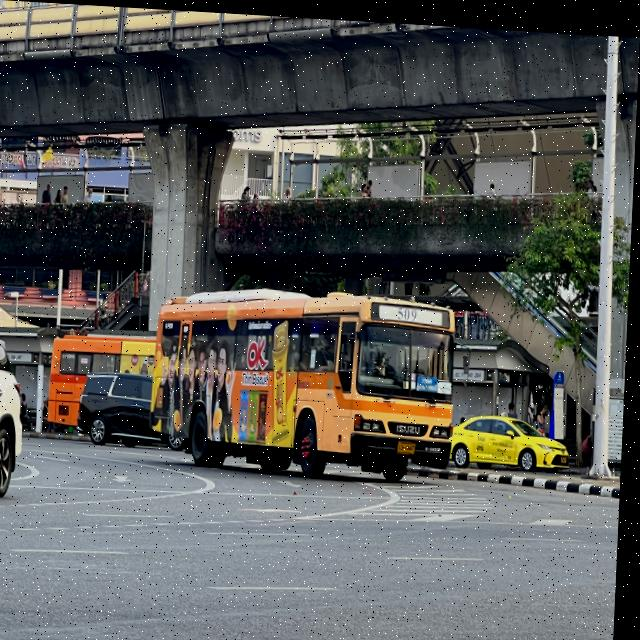BMTA-bus: (153, 281, 460, 481)
Bus-Line-Number: (397, 300, 422, 317)
Destination-Sign-Normal: (420, 370, 442, 388)
